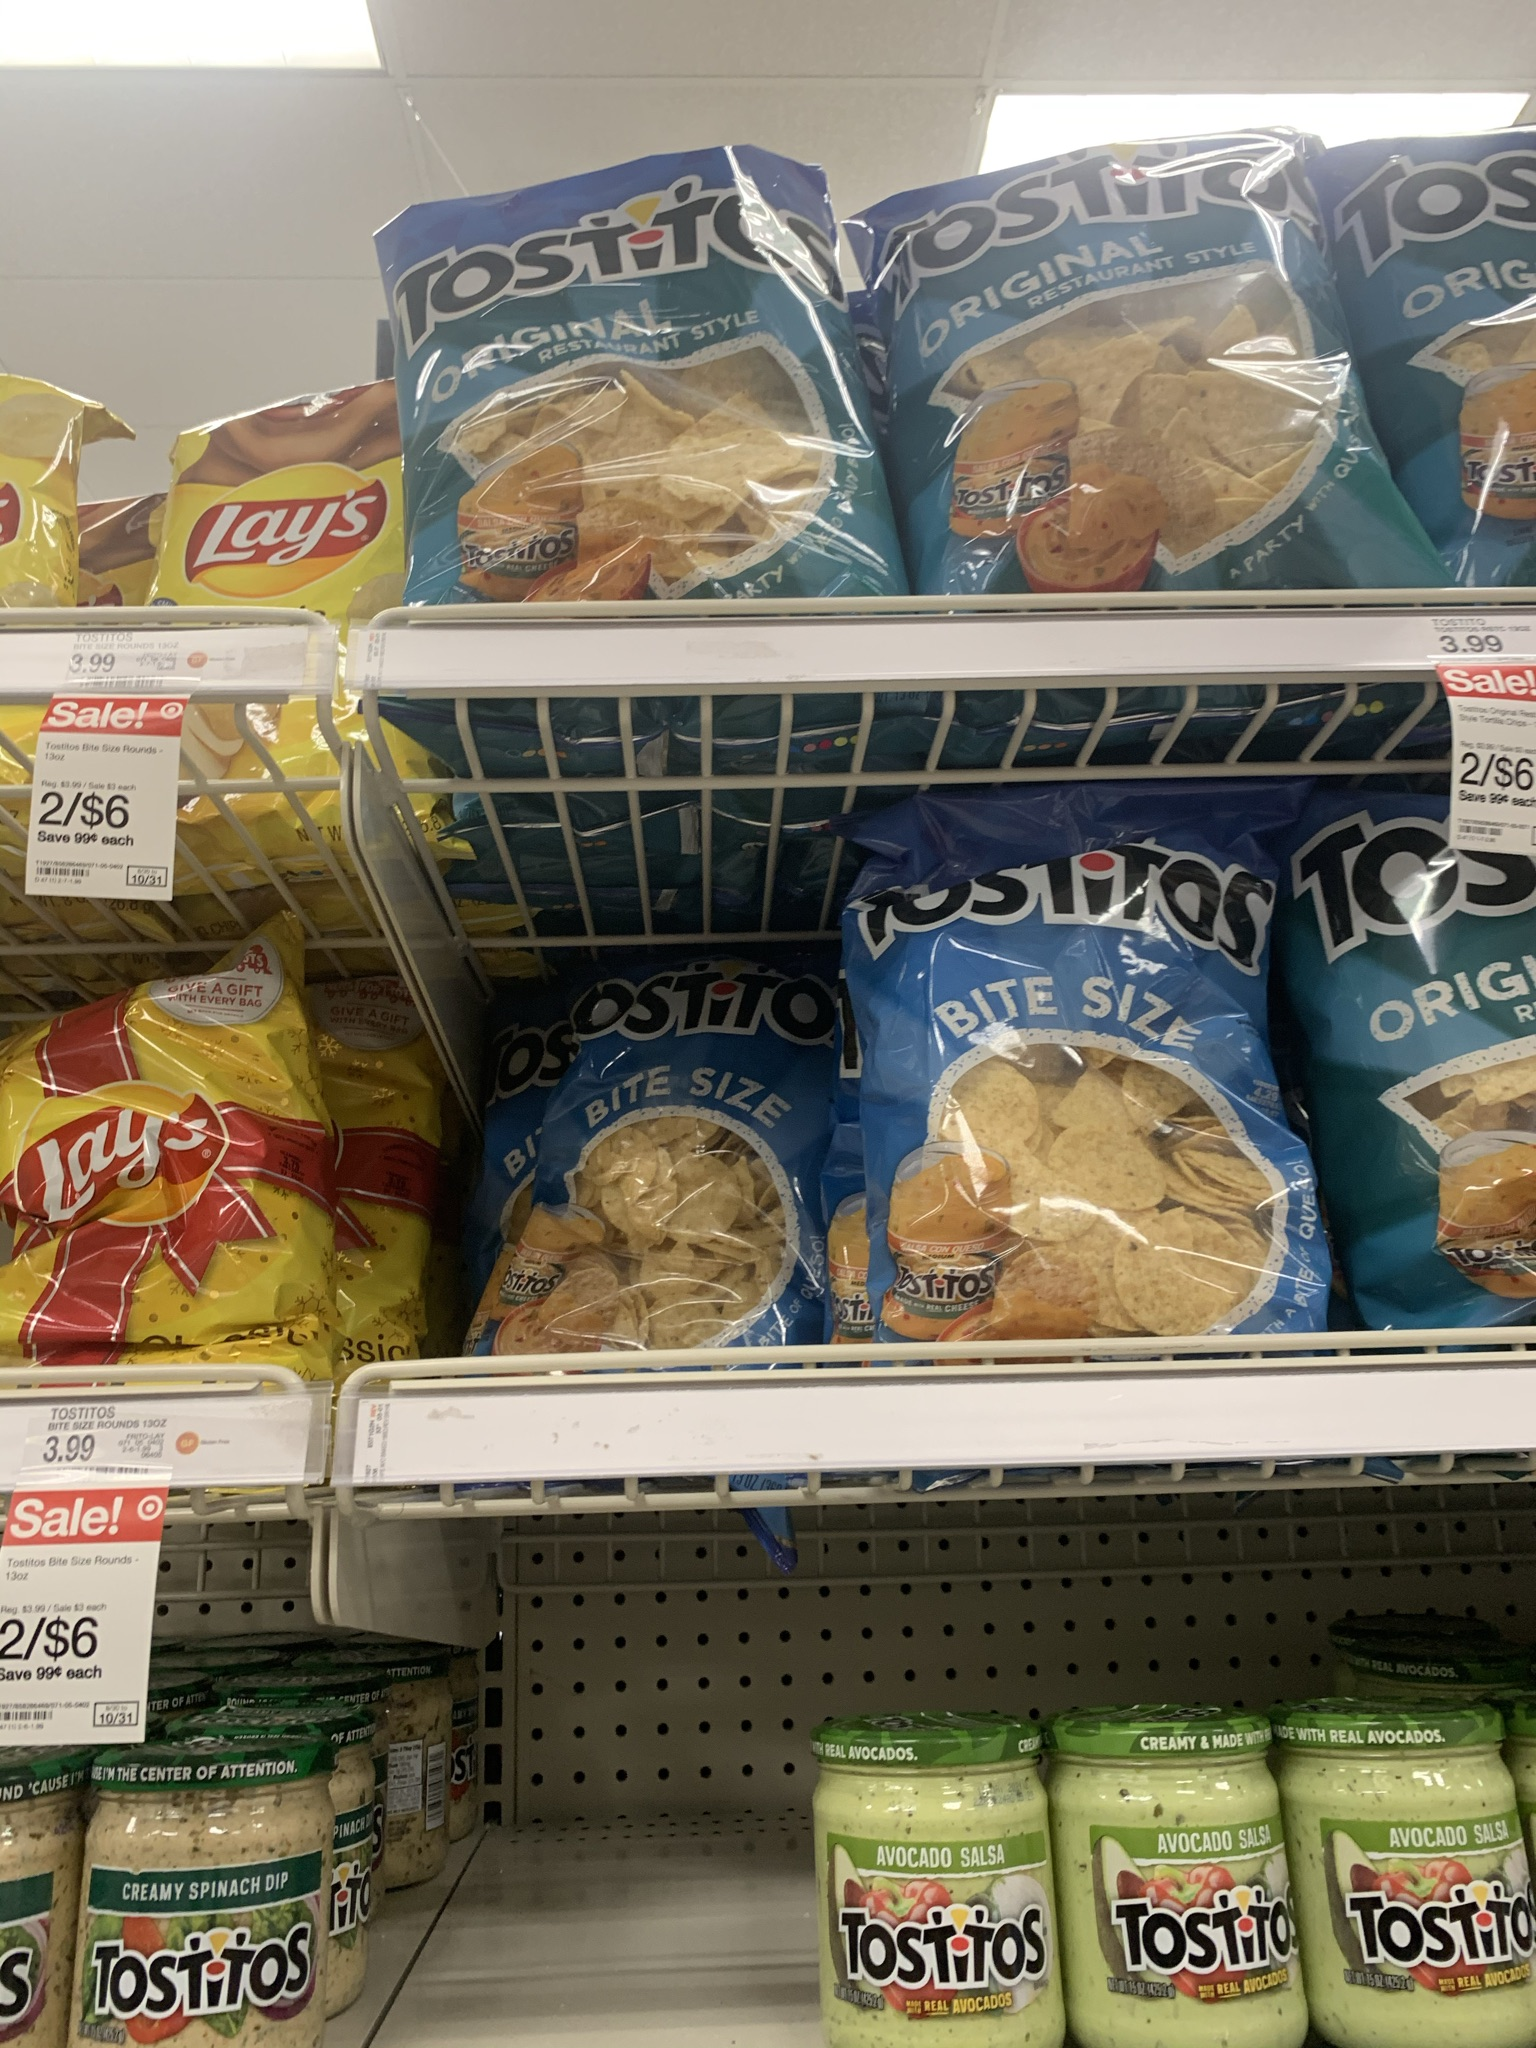lays: (27, 1101, 324, 1356), (182, 429, 384, 639)
tostitos chips: (884, 205, 1418, 564), (389, 224, 879, 579), (879, 880, 1271, 1301), (528, 1016, 821, 1371), (1321, 839, 1536, 1264), (1362, 176, 1536, 579)
